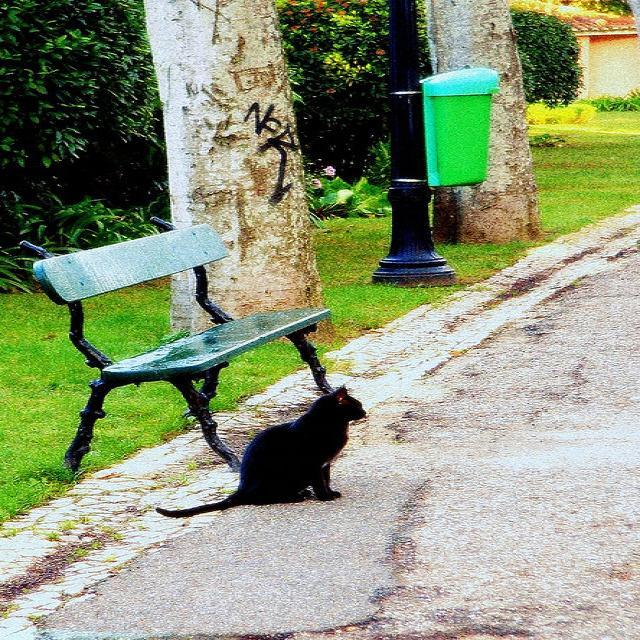fire_hydrant: (369, 178, 456, 289)
